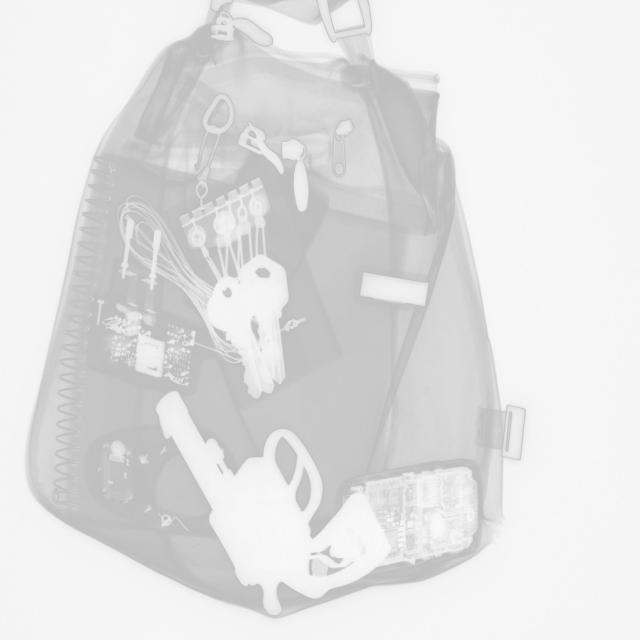pistol: (152, 389, 392, 616)
